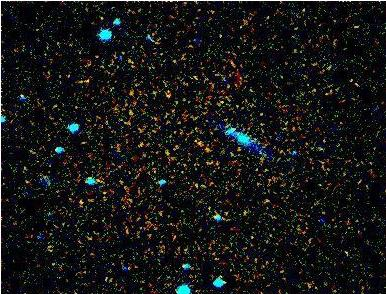star: (109, 39, 139, 69)
